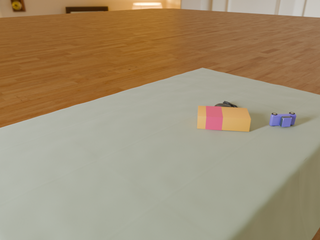box: (197, 106, 251, 131)
toy_car: (269, 112, 297, 127)
